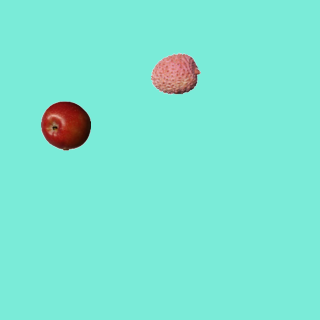Apple Braeburn: (40, 100, 90, 150)
Lychee: (150, 48, 200, 98)
